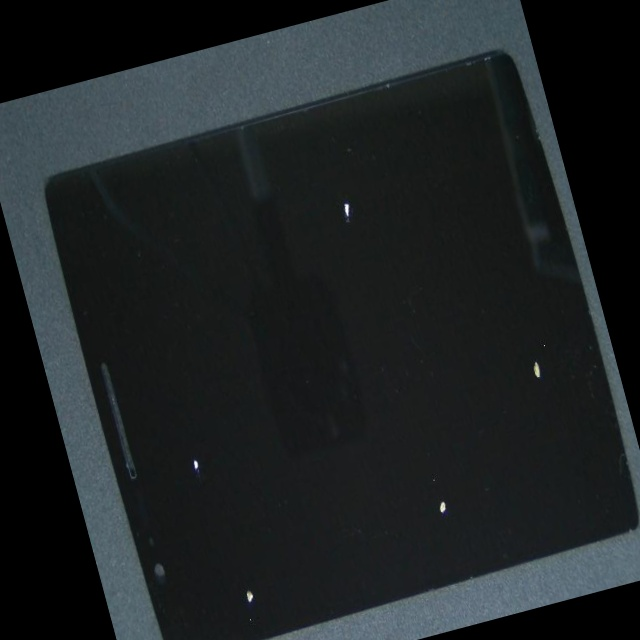stain: (177, 168, 623, 640), (223, 145, 640, 640), (70, 248, 304, 640), (104, 265, 329, 640), (176, 64, 535, 294)
